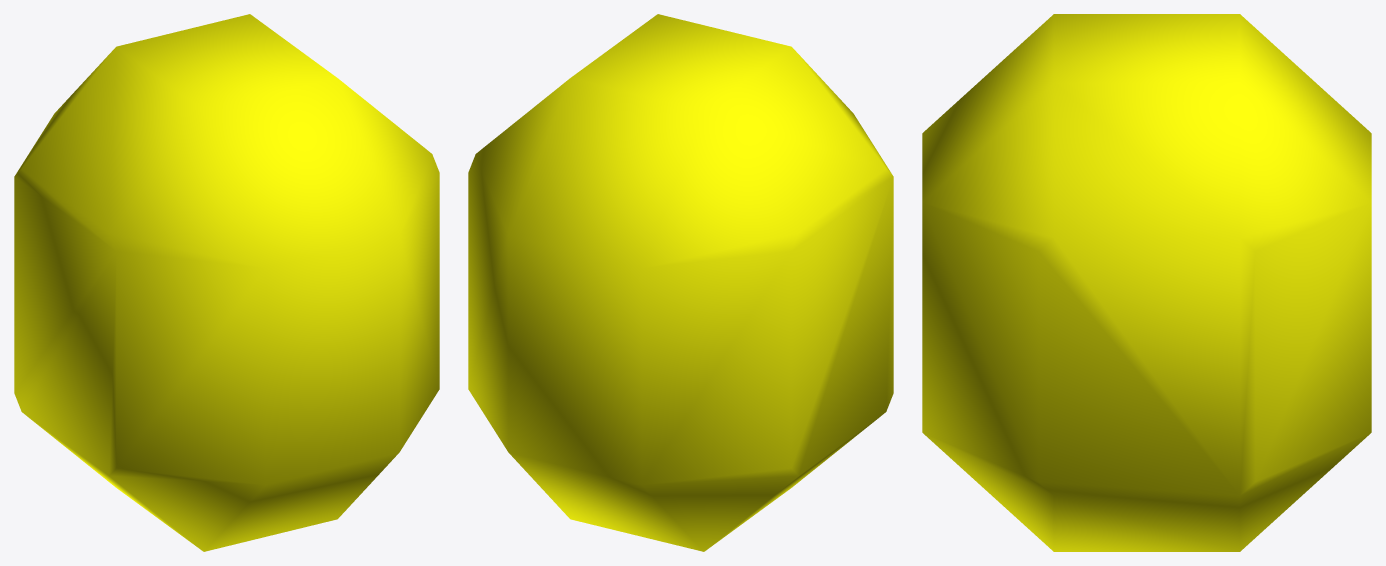
File: hand_3finger.bbox.gltf
The picture shows the model from 3 angles, left to right: view 1: azimuth 30°, elevation 25°; view 2: azimuth 150°, elevation 25°; view 3: azimuth 270°, elevation 25°; orthographic projection. The views are drawn at different scales.
Visible parts, largest first — view 1: hand_3finger.bbox; view 2: hand_3finger.bbox; view 3: hand_3finger.bbox.
Part boxes in pixels (x1,y1,x2,y2): hand_3finger.bbox: (14,14,439,551); hand_3finger.bbox: (468,14,893,551); hand_3finger.bbox: (922,14,1371,551).
Size of the model in its own units: 0.0927 by 0.121 by 0.1051.
